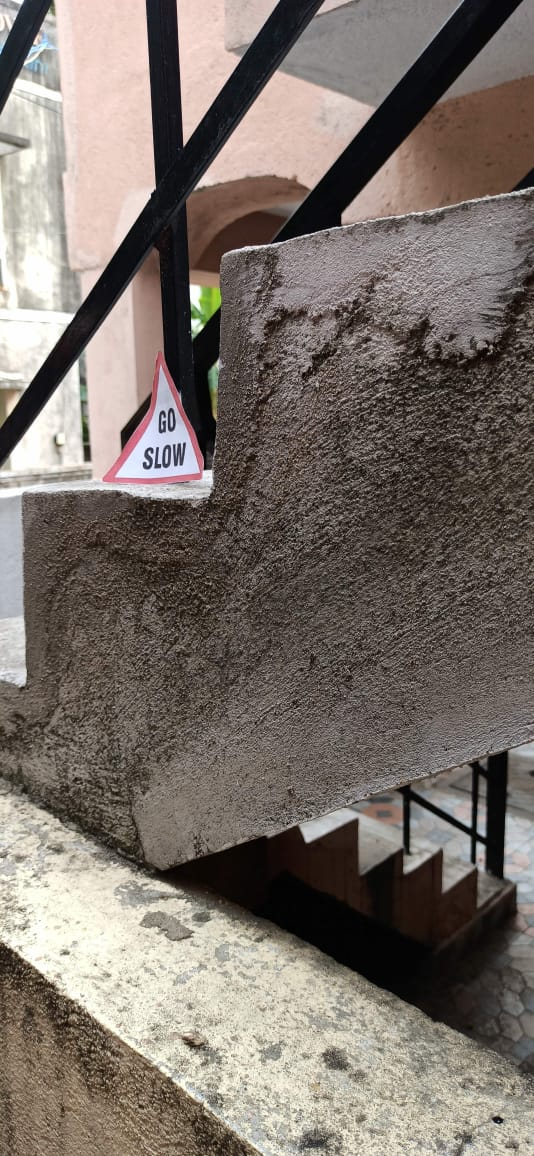GO SLOW: (98, 336, 231, 495)
